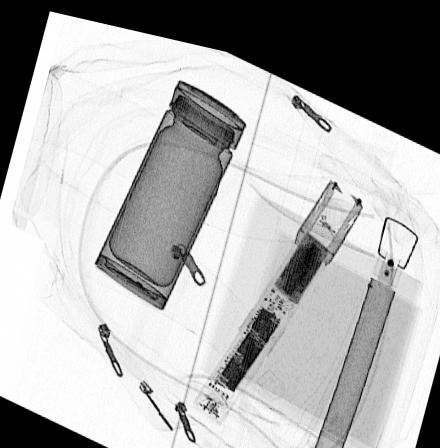Baton: (192, 161, 366, 416)
